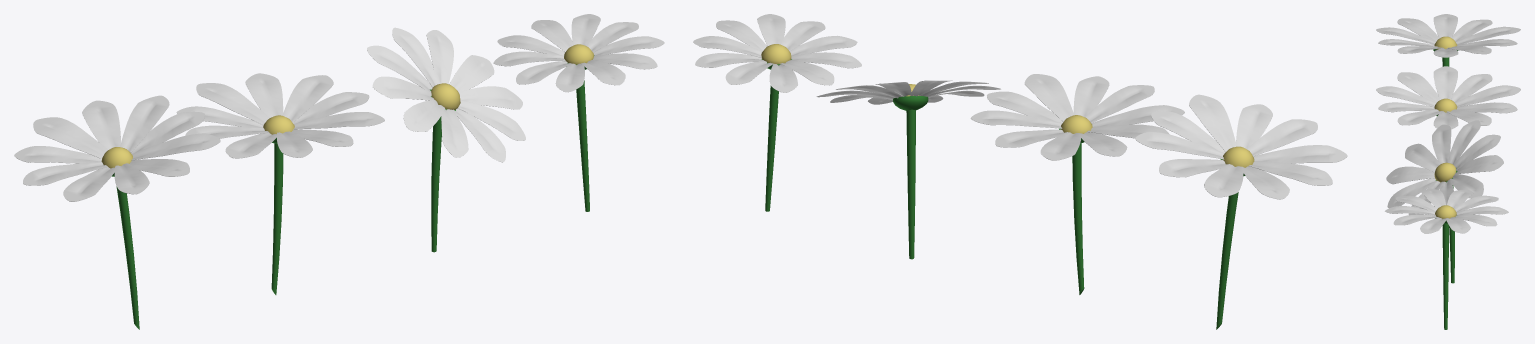
File: flowers.FBX
3 renders of one model, left to right at view 1: azimuth 30°, elevation 25°; view 2: azimuth 150°, elevation 25°; view 3: azimuth 270°, elevation 25°, orthographic. The views are drawn at different scales.
Parts seen in each view (by area): view 1: Line39, Line34, Line40, Line03, Line05, Line32, Line04, Cylinder02, Line37, Cylinder03, Line35, Line36 (+35 smaller); view 2: Line32, Line33, Line31, Line07, Stengel 01, Cylinder02, Line37, Line34, Line38, Line09, Line36, Cylinder03 (+25 smaller); view 3: Line03, Line01, Line10, Line22, Line26, Line28, Line27, Stengel 02, Line21, Line25, Line02, Line09 (+34 smaller).
Boxes of the visible parts, x1,y1,x2,y2 form: Line39: (33, 117, 107, 158); Line34: (120, 95, 169, 152); Line40: (82, 100, 120, 149); Line03: (196, 83, 269, 125); Line05: (282, 75, 333, 122); Line32: (131, 133, 220, 160); Line04: (245, 73, 283, 117); Cylinder02: (271, 143, 283, 294); Line37: (131, 111, 204, 154); Cylinder03: (116, 186, 139, 329); Line35: (14, 146, 101, 163); Line36: (23, 161, 107, 185); Line32: (1189, 94, 1236, 152); Line33: (1253, 145, 1347, 163); Line31: (1247, 119, 1317, 156); Line07: (1024, 74, 1073, 121); Stengel 01: (906, 109, 915, 259); Cylinder02: (1072, 143, 1084, 294); Line37: (1151, 111, 1225, 156); Line34: (1135, 132, 1224, 159); Line38: (1236, 104, 1272, 148); Line09: (1085, 85, 1154, 123); Line36: (1249, 161, 1332, 185); Cylinder03: (1216, 192, 1238, 329); Line03: (1455, 85, 1520, 107); Line01: (1433, 66, 1457, 99); Line10: (1397, 72, 1439, 102); Line22: (1448, 120, 1480, 164); Line26: (1454, 134, 1500, 170); Line28: (1386, 166, 1434, 184); Line27: (1432, 124, 1451, 163); Stengel 02: (1442, 224, 1448, 329); Line21: (1405, 143, 1440, 172); Line25: (1455, 155, 1503, 173); Line02: (1451, 74, 1492, 102); Line09: (1376, 86, 1436, 106).
Size of the model in its own units: 31.23 by 9.73 by 8.71.
